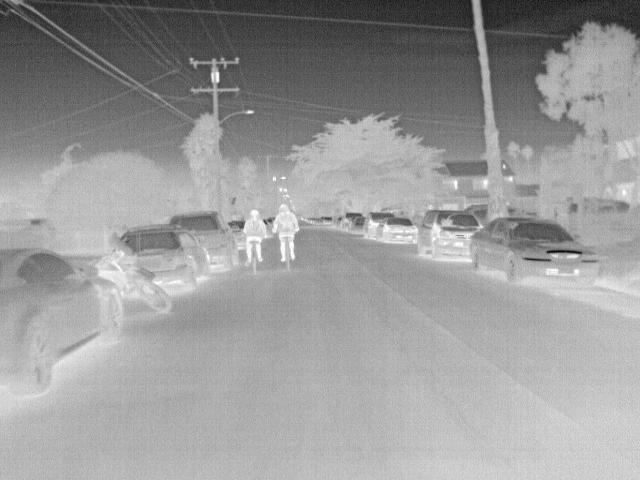car: (3, 242, 119, 397), (468, 219, 599, 290), (120, 224, 212, 286), (169, 210, 241, 273), (414, 208, 483, 264), (362, 212, 404, 242), (377, 220, 423, 246), (227, 220, 244, 250), (343, 212, 360, 231), (352, 218, 367, 236), (322, 215, 335, 226)
person: (273, 200, 300, 264), (244, 208, 263, 267)
